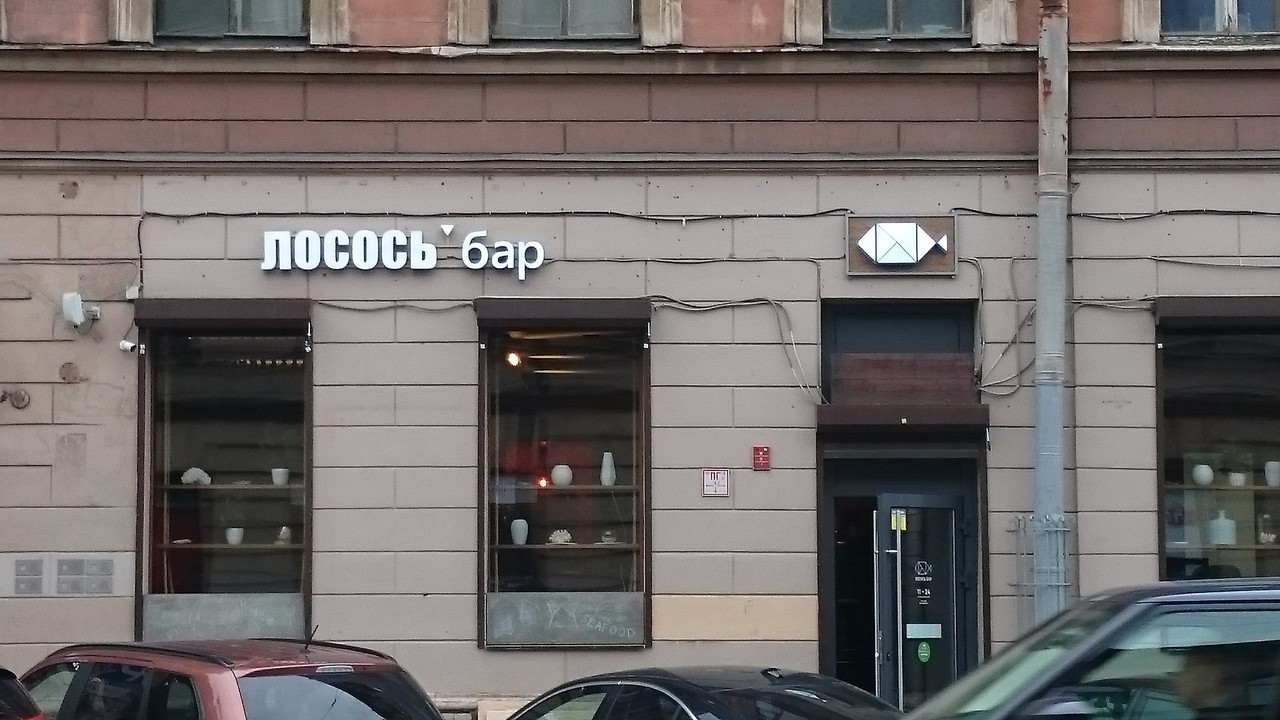door: (822, 485, 981, 720)
signboard: (262, 223, 542, 282), (844, 214, 958, 277)
window: (142, 327, 304, 645), (486, 326, 642, 647)
